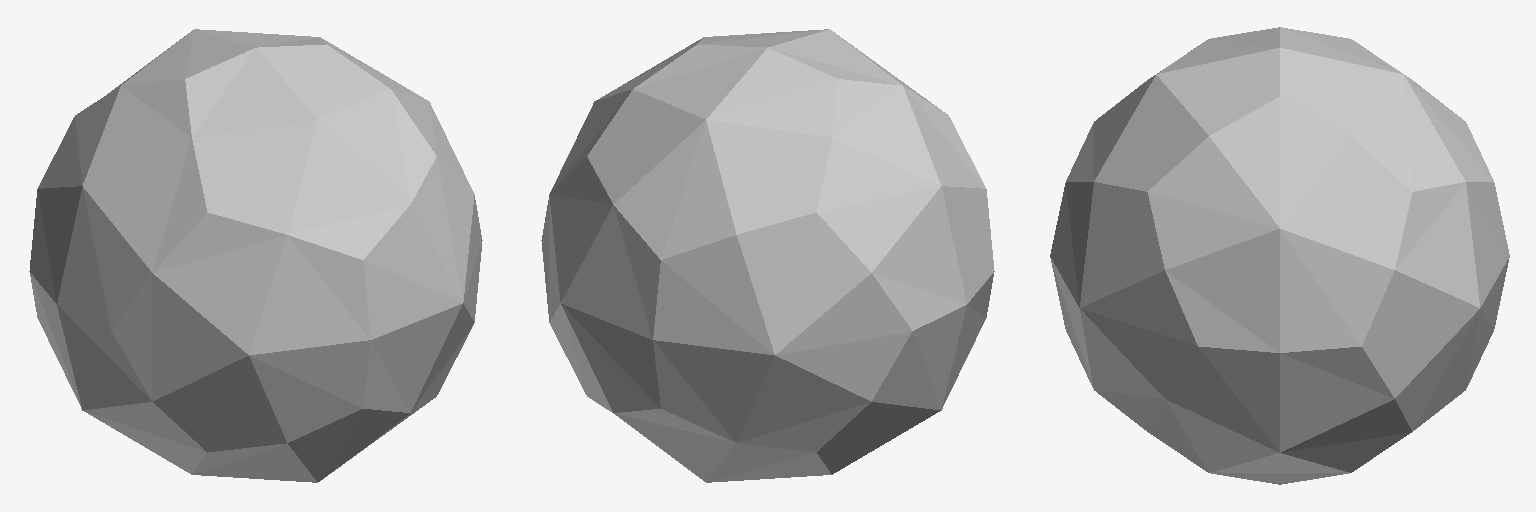
The picture shows the model from 3 angles: view 1: azimuth 30°, elevation 25°; view 2: azimuth 150°, elevation 25°; view 3: azimuth 270°, elevation 25°; orthographic projection.
Parts seen in each view (by area): view 1: icosahedron1; view 2: icosahedron1; view 3: icosahedron1.
Boxes of the visible parts, box(x1,y1,x2,y2) form: icosahedron1: box(29, 29, 482, 482); icosahedron1: box(541, 29, 994, 482); icosahedron1: box(1050, 27, 1509, 484).
Bounding box in the file's own units: 10 × 10 × 10.